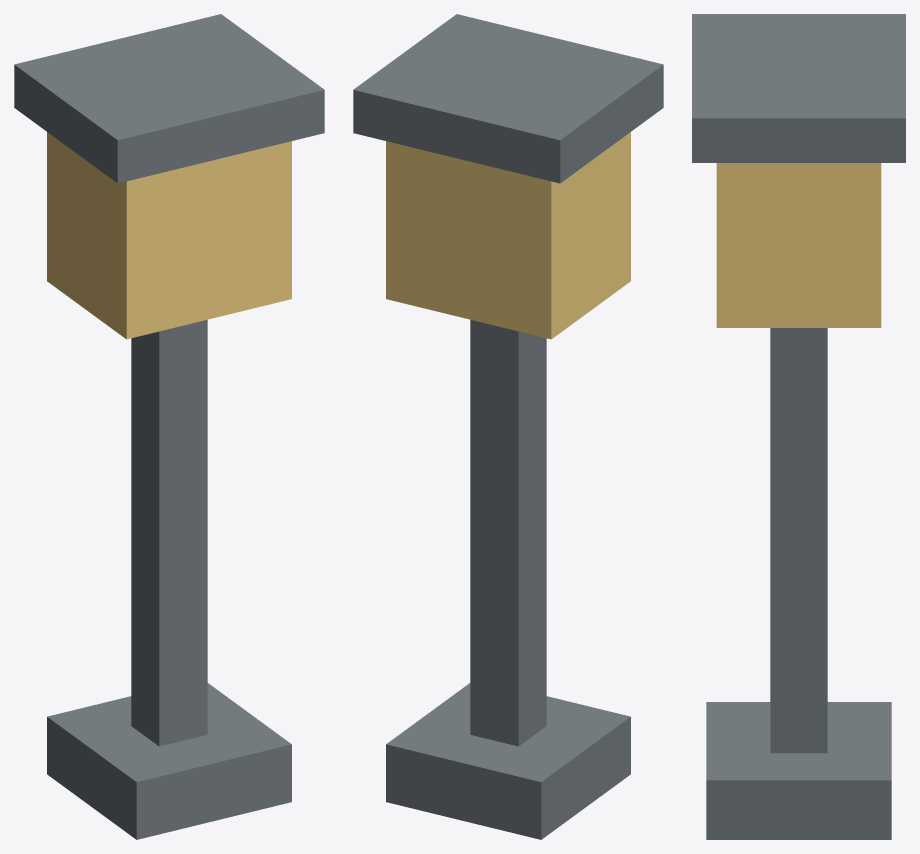
The model's file is lantern-post.glb.
3 views of the same model, side by side, from view 1: azimuth 30°, elevation 25°; view 2: azimuth 150°, elevation 25°; view 3: azimuth 270°, elevation 25° (orthographic). The views are drawn at different scales.
Visible parts, largest first — view 1: PLACEHOLDER_lamp, PLACEHOLDER_cap, PLACEHOLDER_post, PLACEHOLDER_base; view 2: PLACEHOLDER_lamp, PLACEHOLDER_cap, PLACEHOLDER_post, PLACEHOLDER_base; view 3: PLACEHOLDER_cap, PLACEHOLDER_lamp, PLACEHOLDER_post, PLACEHOLDER_base.
Part boxes in pixels (x1=…): PLACEHOLDER_lamp: x1=47, y1=132, x2=291, y2=339; PLACEHOLDER_cap: x1=14, y1=14, x2=324, y2=183; PLACEHOLDER_post: x1=131, y1=319, x2=207, y2=746; PLACEHOLDER_base: x1=47, y1=683, x2=291, y2=839; PLACEHOLDER_lamp: x1=386, y1=132, x2=630, y2=339; PLACEHOLDER_cap: x1=353, y1=14, x2=663, y2=183; PLACEHOLDER_post: x1=470, y1=319, x2=546, y2=746; PLACEHOLDER_base: x1=386, y1=683, x2=630, y2=839; PLACEHOLDER_cap: x1=692, y1=14, x2=905, y2=162; PLACEHOLDER_lamp: x1=716, y1=163, x2=881, y2=327; PLACEHOLDER_post: x1=770, y1=328, x2=827, y2=753; PLACEHOLDER_base: x1=706, y1=702, x2=891, y2=839.
Size of the model in its own units: 0.6 by 1.97 by 0.52.
